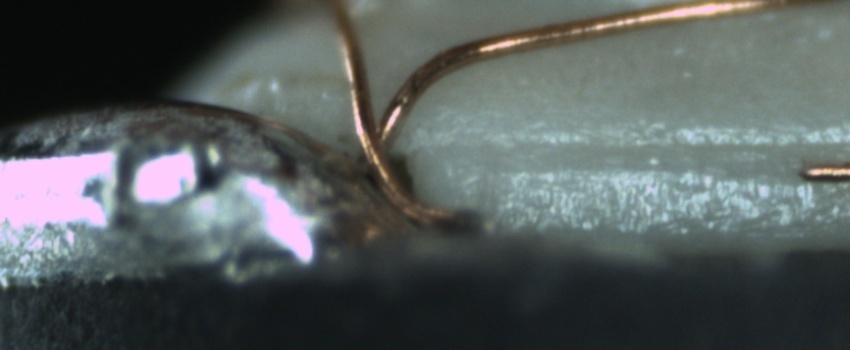DL: (446, 124, 849, 186)
